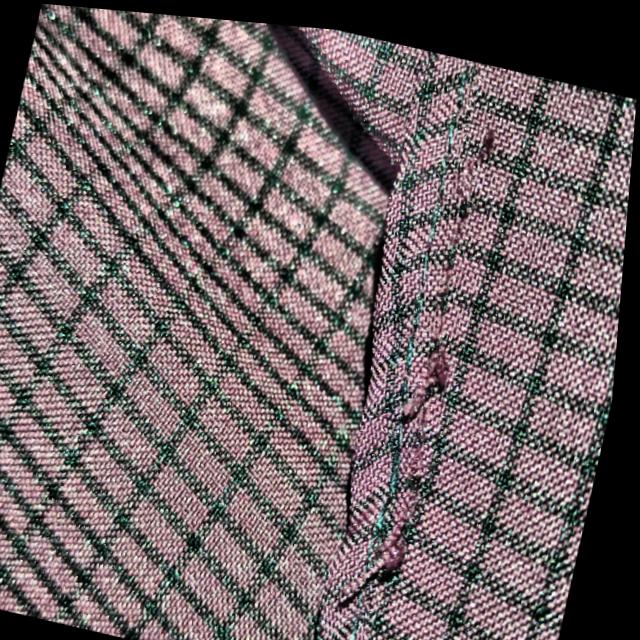Stitch: (330, 407, 492, 640), (397, 225, 526, 417)
